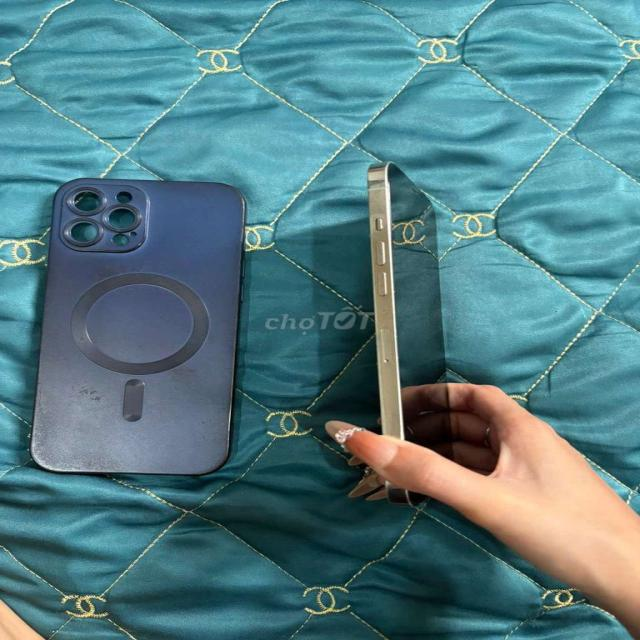gen_12_13: (353, 158, 488, 509)
